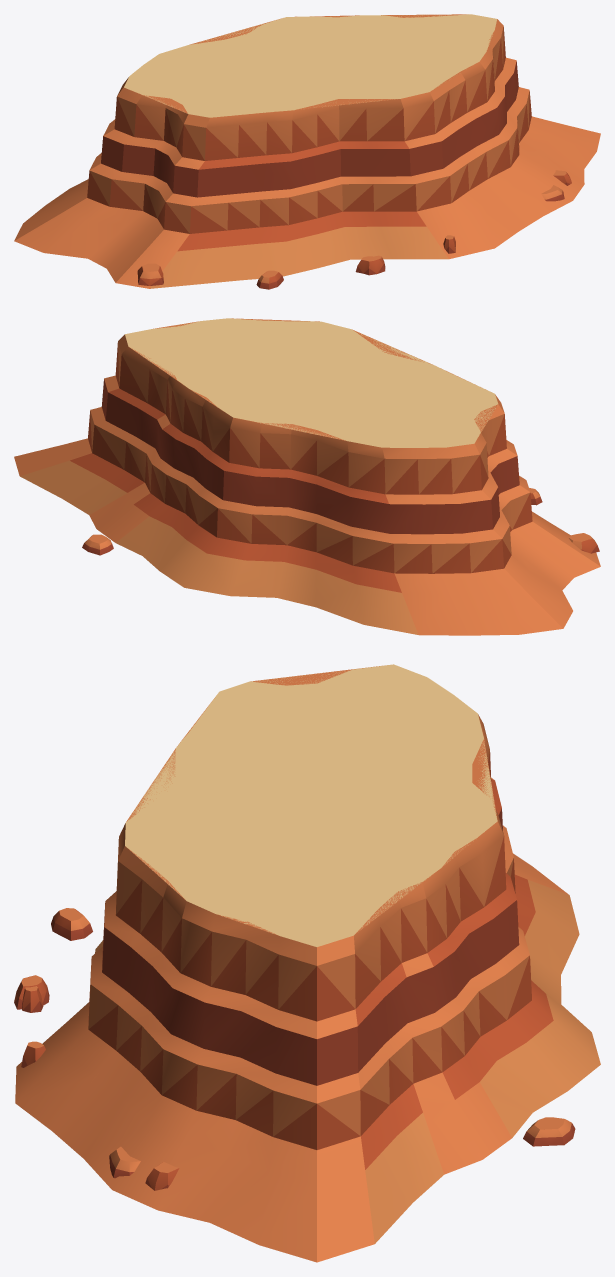
File: MesaDesierto.fbx
3 renders of one model, top to bottom at view 1: azimuth 30°, elevation 25°; view 2: azimuth 150°, elevation 25°; view 3: azimuth 270°, elevation 25°, orthographic. The views are drawn at different scales.
Visible parts, largest first — view 1: MesaDesierto; view 2: MesaDesierto; view 3: MesaDesierto.
Boxes of the visible parts, <box> form: MesaDesierto: <box>14,14,600,289</box>; MesaDesierto: <box>14,318,600,635</box>; MesaDesierto: <box>14,664,600,1262</box>.
Bounding box in the file's own units: 403 × 98 × 225.
Materials: 1 (1 with a texture image).
